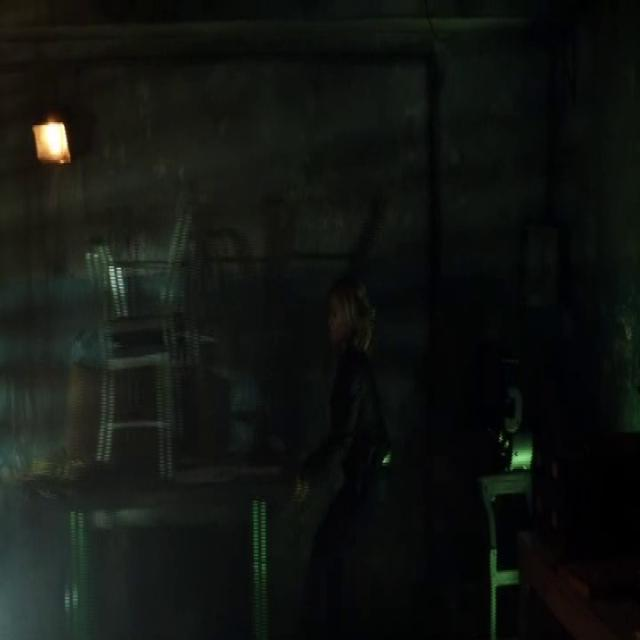People: (298, 255, 398, 629)
Table: (30, 409, 295, 640)
chair: (91, 209, 198, 484)
